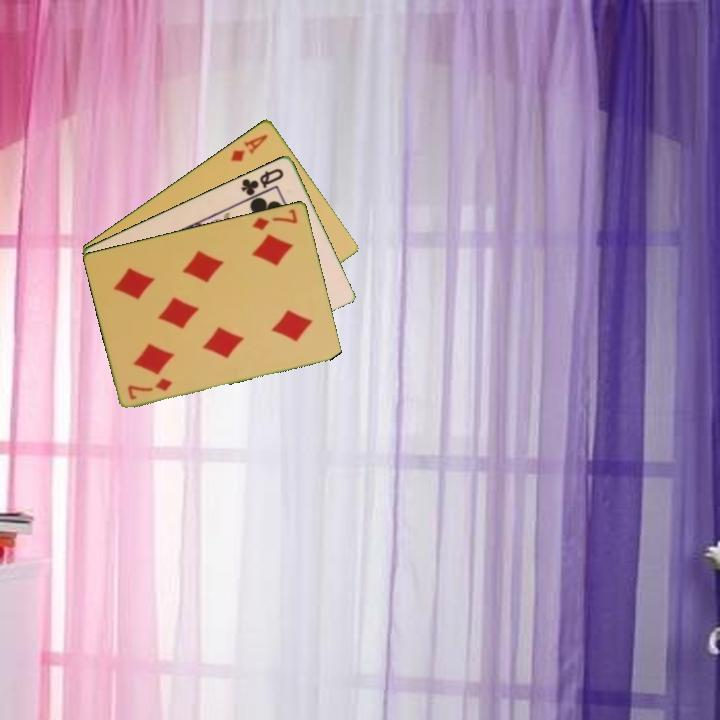7d: (249, 205, 300, 233), (124, 374, 175, 402)
Ad: (227, 130, 271, 164)
Qc: (237, 164, 287, 198)
